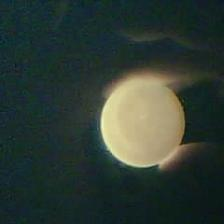infertile: (100, 77, 186, 169)
